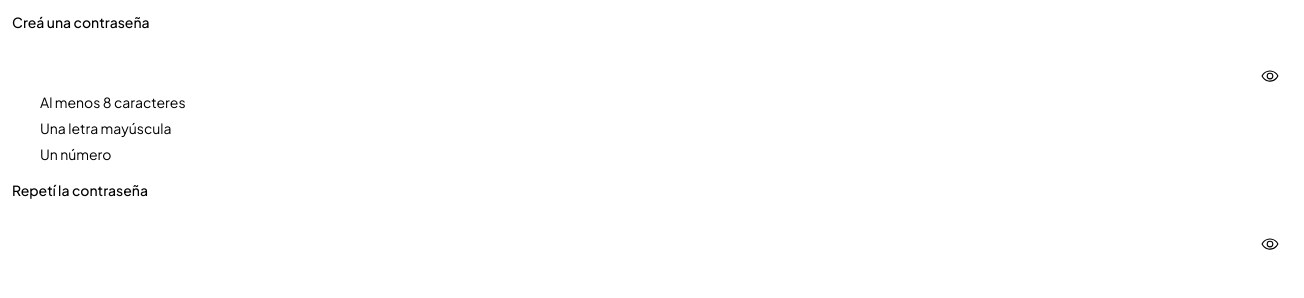
Test: NewPasswordFields — confirmación › mientras no coinciden avisa en neutro, y el error recién sale al salir del campo
This screenshot has width=1304, height=298.
Type "Casa2026" into the password field with id "t-password" at coordinates (652, 60), box [12,38,1292,82]
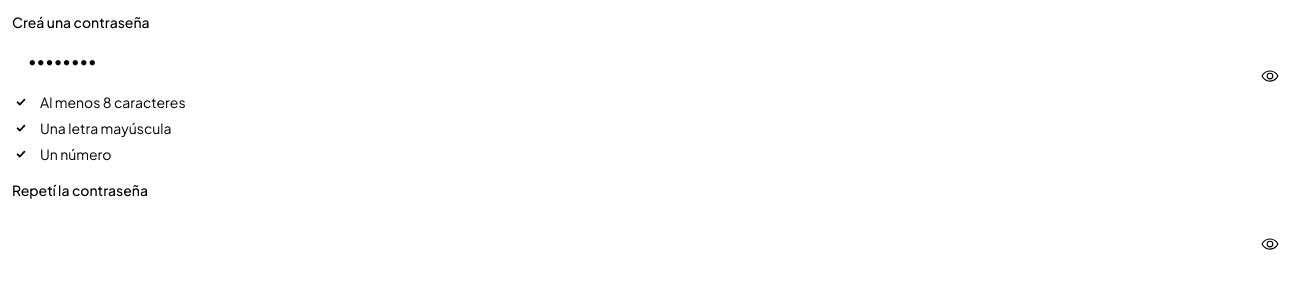
Type "Casa20" into the password field with id "t-password-confirm" at coordinates (652, 228), box [12,206,1292,250]
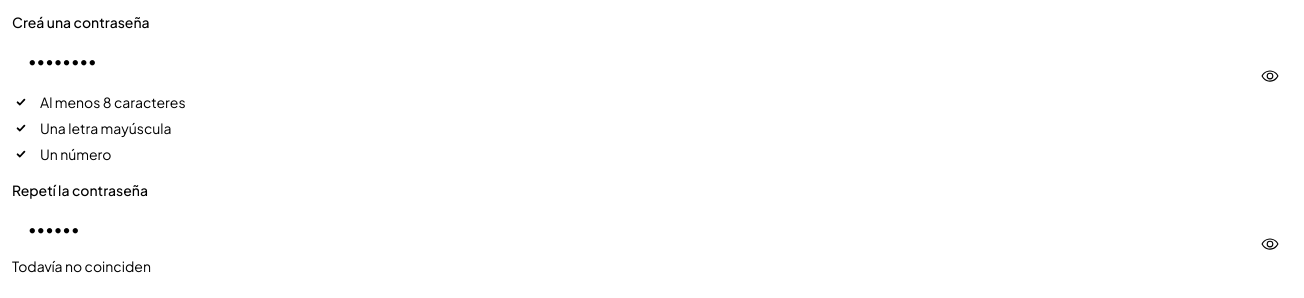
Now the text "Todavía no coinciden" is shown, box [12,257,151,275]
Leave the password field with id "t-password-confirm", box [12,206,1292,250]
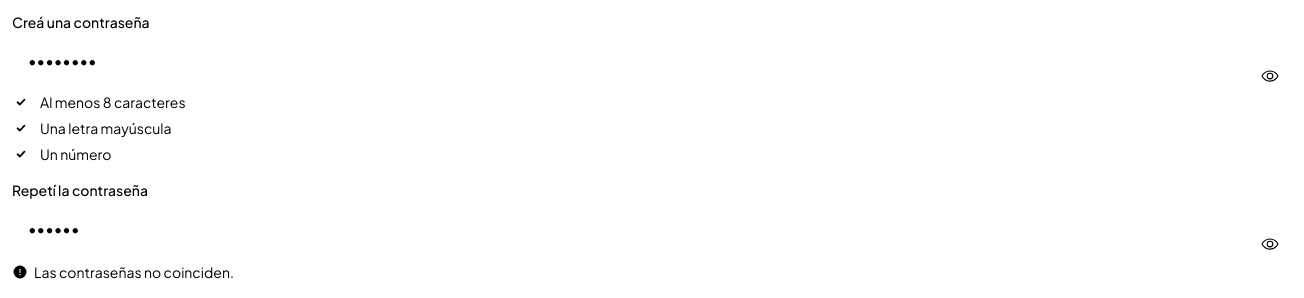
Now the message reads "Las contraseñas no coinciden.", box [34,263,234,281]
